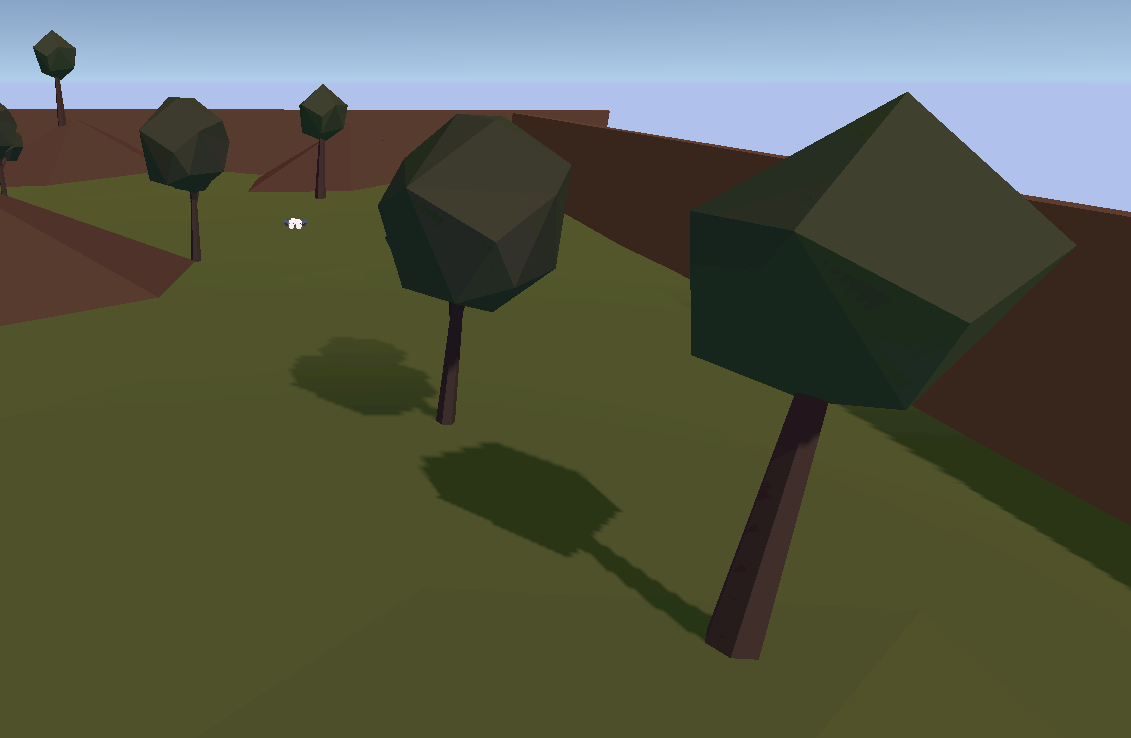tree: (690, 92, 1081, 661), (378, 115, 574, 429), (141, 94, 245, 263), (299, 83, 351, 201), (31, 28, 78, 124), (1, 102, 28, 208)
